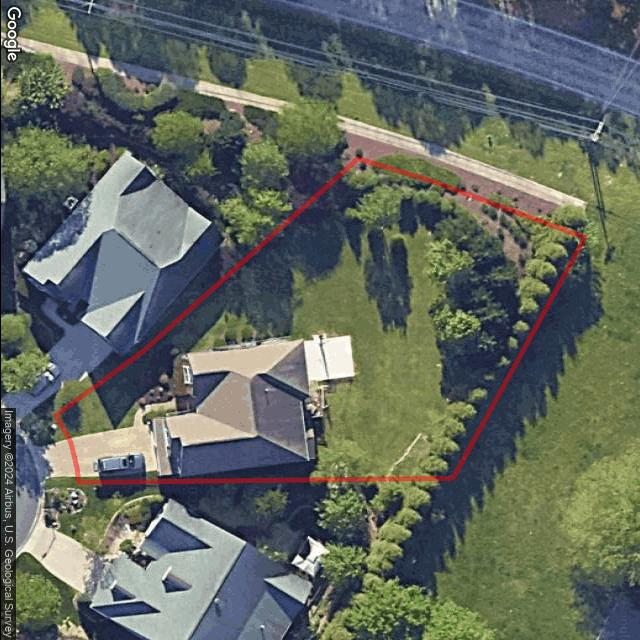Driveway: (68, 424, 155, 478)
Extra-Driveway: (32, 439, 78, 479)
Extra-Lawn: (27, 416, 67, 447), (44, 477, 81, 484)
House: (164, 339, 308, 476)
Lawn: (55, 160, 583, 483)
Other: (333, 158, 579, 476), (305, 334, 356, 423), (135, 344, 183, 408), (207, 320, 289, 351), (307, 429, 317, 461)
Sidewalk: (134, 397, 176, 426)
